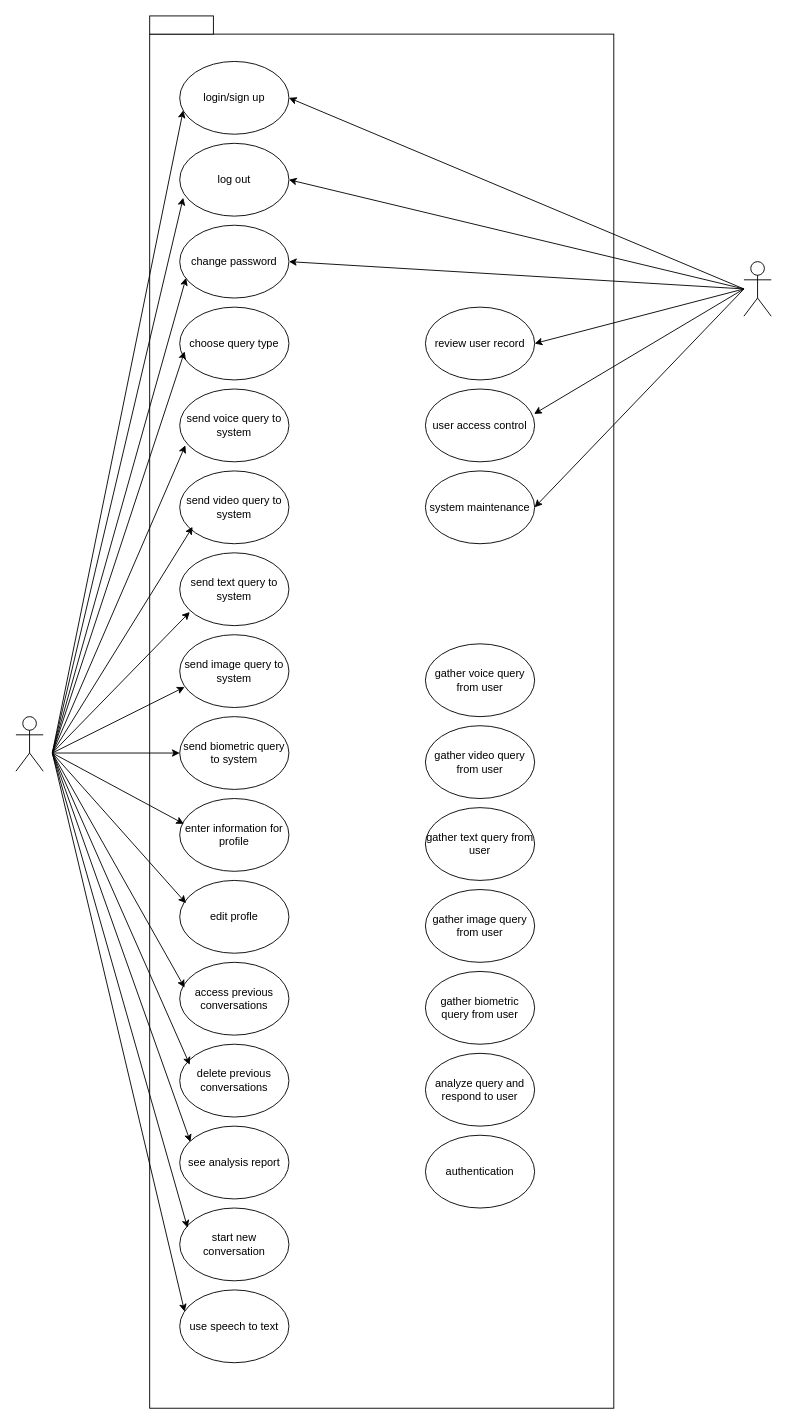
Some shapes in this 788 by 1424 pixel diagram are drawn without their labels. Here are the shapes that lost their labels. From the top down, the centre of each, then its label:
At [181,24]: "system".
At [757,288]: "admin".
At [29,743]: "user".
